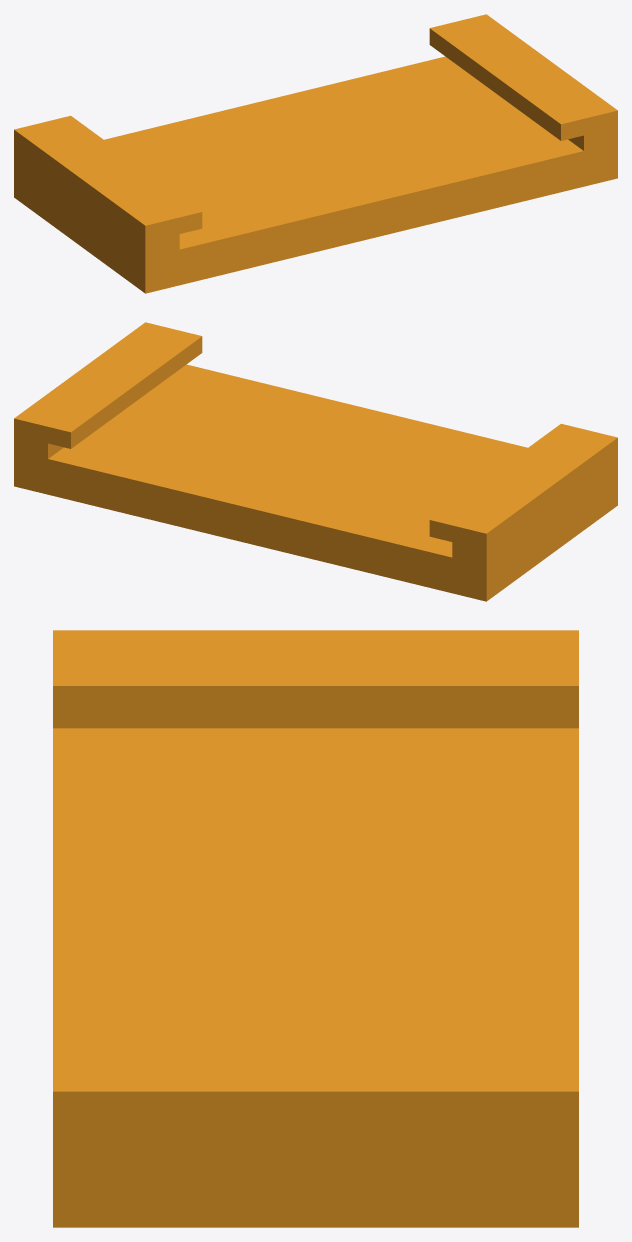
File: clip_din_atornillable.fbx
3 renders of one model, top to bottom at view 1: azimuth 30°, elevation 25°; view 2: azimuth 150°, elevation 25°; view 3: azimuth 270°, elevation 25°, orthographic. The views are drawn at different scales.
Parts seen in each view (by area): view 1: clip_din_atornillable; view 2: clip_din_atornillable; view 3: clip_din_atornillable.
Boxes of the visible parts, left/top/right/bottom form: clip_din_atornillable: left=14, top=14, right=617, bottom=293; clip_din_atornillable: left=14, top=322, right=617, bottom=601; clip_din_atornillable: left=53, top=630, right=578, bottom=1227.
Bounding box in the file's own units: 0.0415 × 0.0057 × 0.02.
